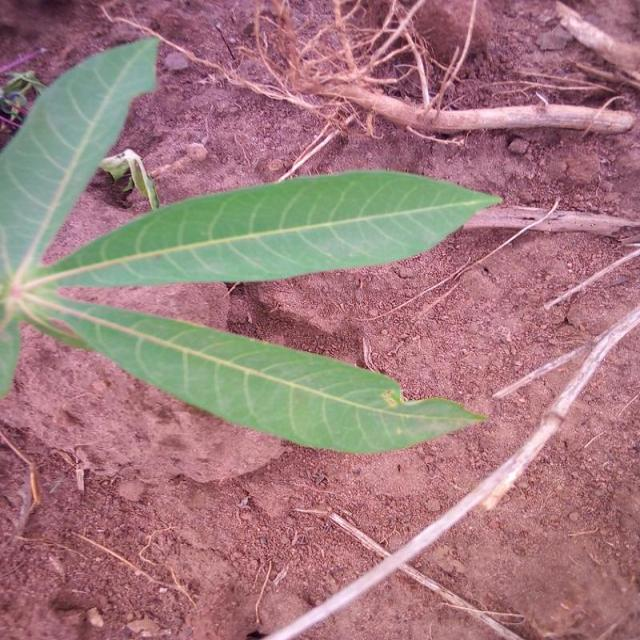cassava leaf: (2, 36, 497, 454), (36, 166, 504, 292)
